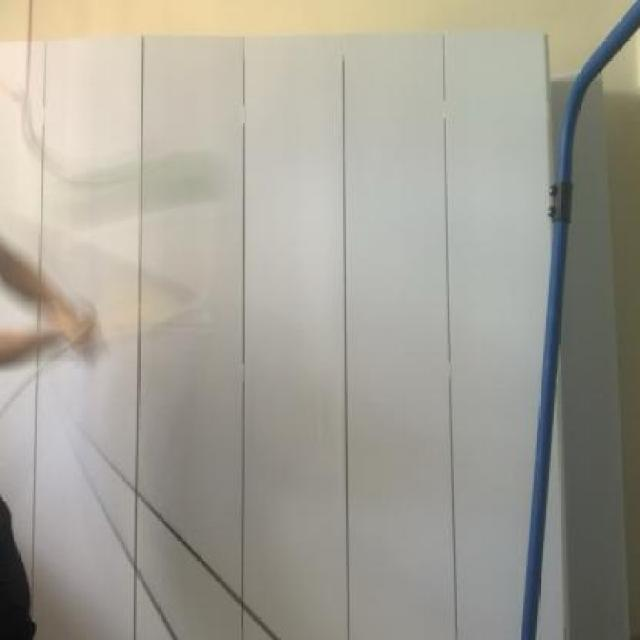baseball: (63, 134, 223, 223)
